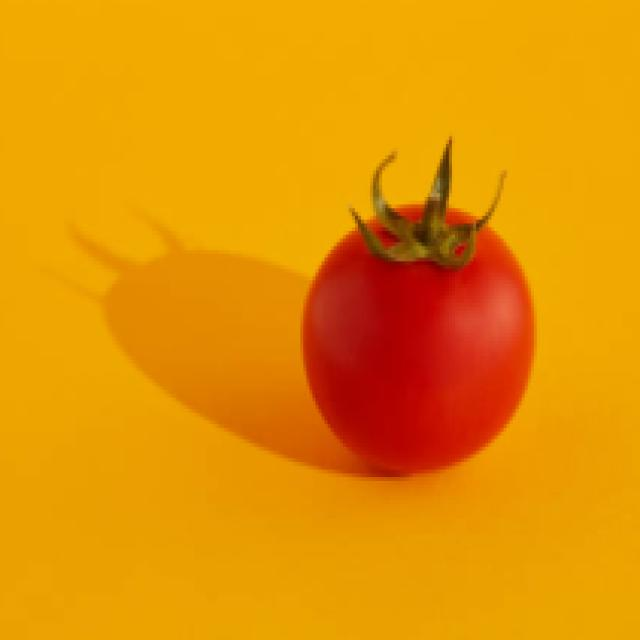Tomato: (296, 153, 549, 480)
